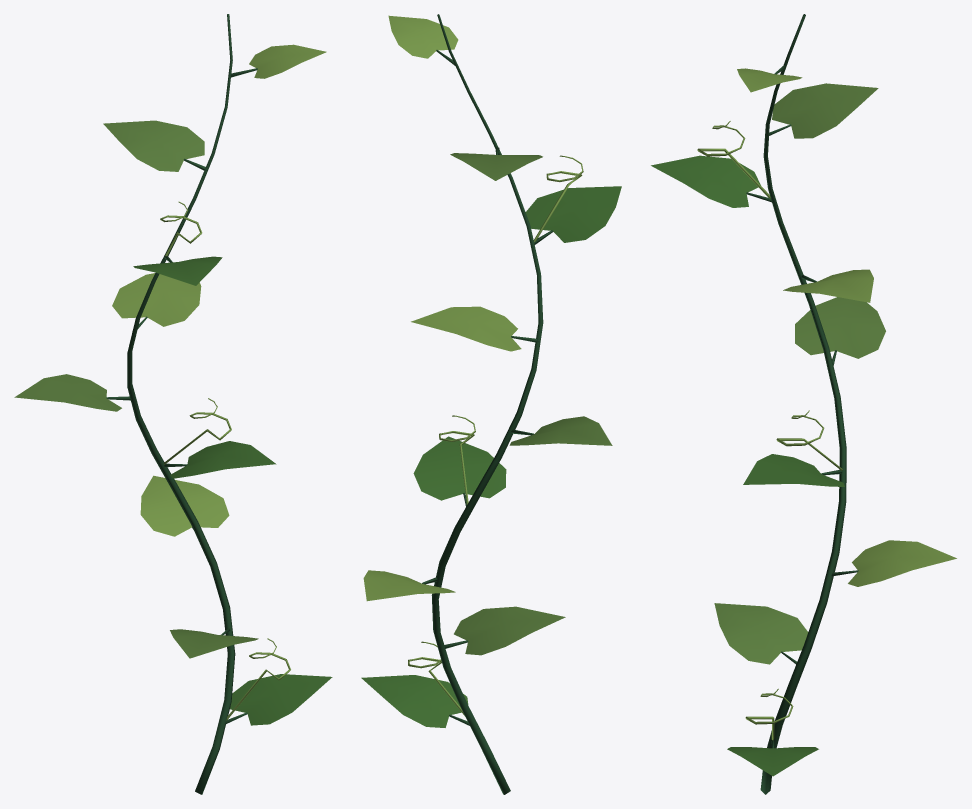
Rendered from meadow_climbing_vine.glb.
The picture shows the model from 3 angles, left to right: view 1: azimuth 30°, elevation 25°; view 2: azimuth 150°, elevation 25°; view 3: azimuth 270°, elevation 25°; orthographic projection. The views are drawn at different scales.
Visible parts, largest first — view 1: body; view 2: body; view 3: body.
Part boxes in pixels (x1,y1,x2,y2): body: (14, 14, 332, 794); body: (361, 14, 621, 794); body: (651, 14, 956, 794).
Bounding box in the file's own units: 0.2535 × 0.6528 × 0.2262.
